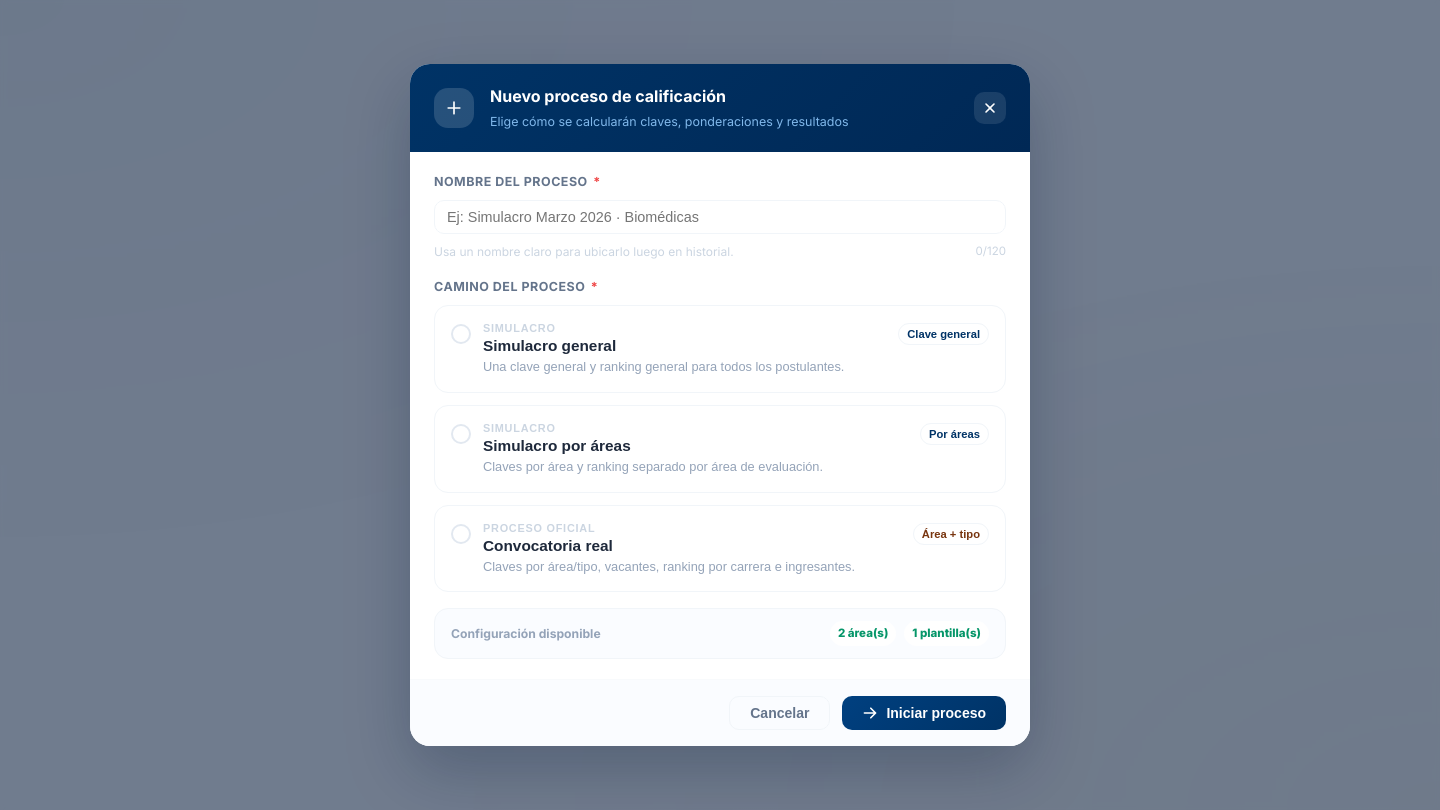
Scenario: NuevoProcesoModal › exige elegir el camino del proceso
Type "Simulacro marzo" into the field labelled "Nombre del proceso *".
click(720, 217); type("Simulacro marzo")  # box x1=434 y1=200 x2=1006 y2=234
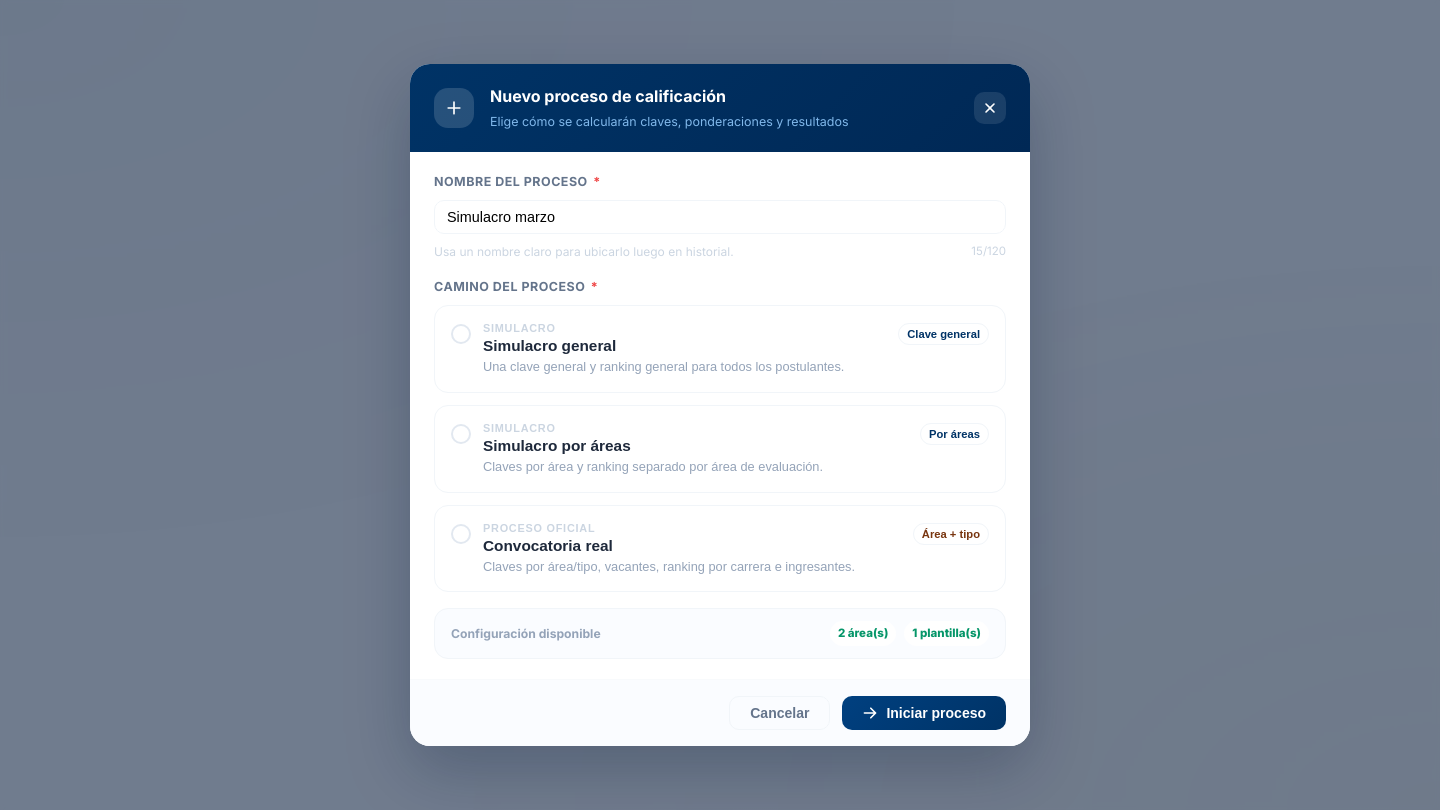
Click the button "Iniciar proceso".
click(924, 713)  # box x1=842 y1=696 x2=1006 y2=730
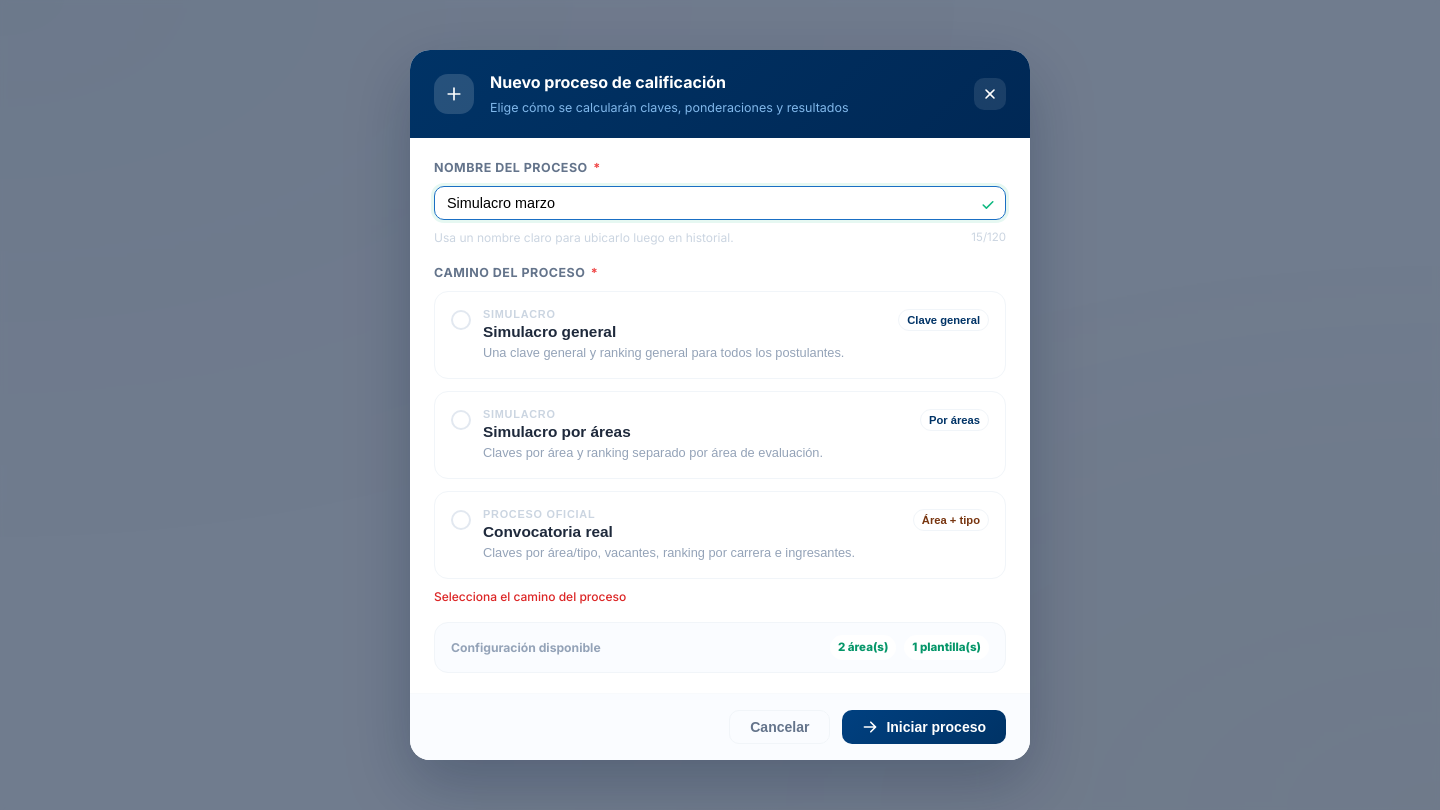
Expected: the text "Selecciona el camino del proceso" is shown, x1=434 y1=589 x2=626 y2=604
